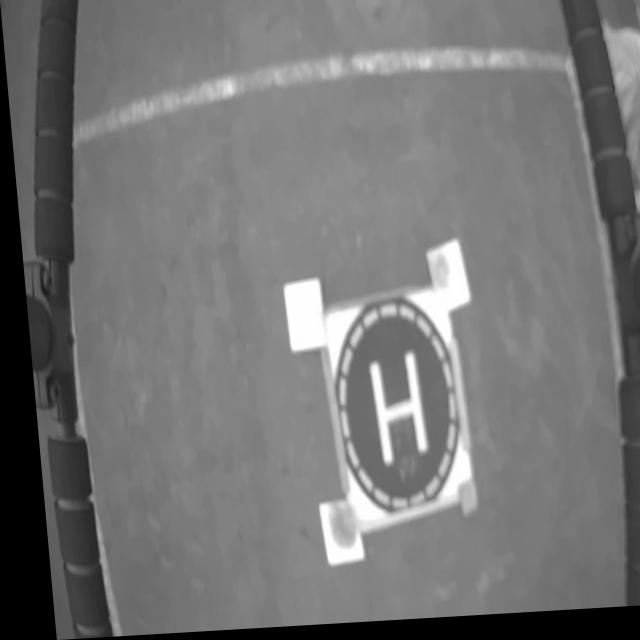Helipad: (360, 354, 420, 472)
